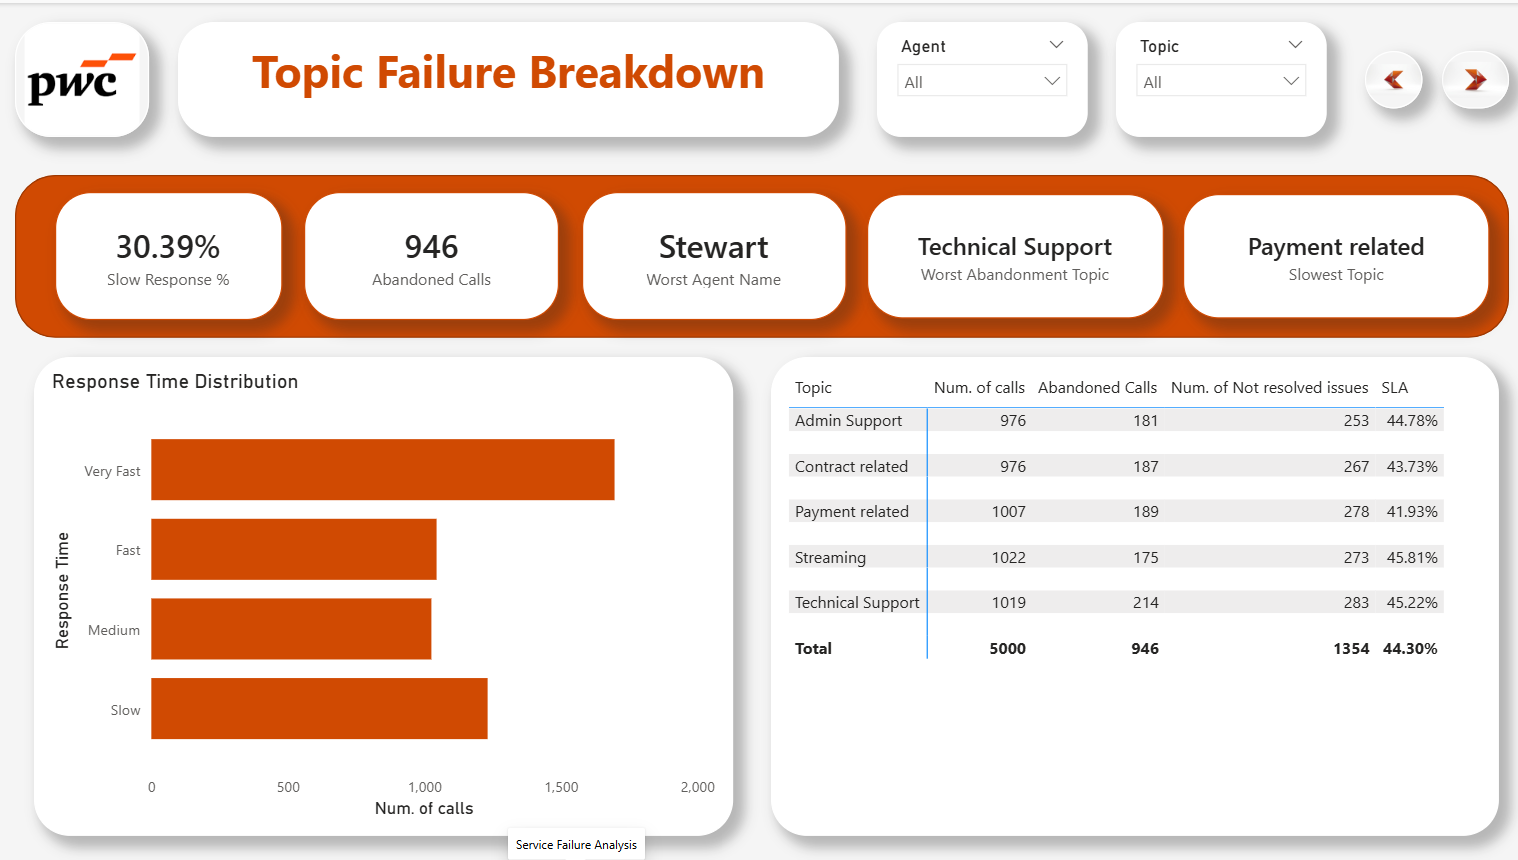

The page's visual inventory and layout, read from the dashboard file:
{"tool":"powerbi","page":{"name":"Service Failure Analysis","canvas":[1280,720],"ordinal":3},"visuals":[{"type":"slicer","fields":{"Values":["Sheet1.Agent"]},"box":[744,16,176,96],"z":0},{"type":"shape","box":[24,144,1248,136],"z":0,"group":"g1"},{"type":"slicer","fields":{"Values":["Sheet1.Topic"]},"box":[944,16,176,96],"z":1000},{"type":"cardVisual","fields":{"Data":["_Measures.Abandoned Calls"]},"box":[265.8,158.3,213.3,107.4],"z":1000,"group":"g1"},{"type":"image","box":[24,16,112,96],"z":2000},{"type":"cardVisual","fields":{"Data":["_Measures.Worst Agent Name"]},"box":[497.6,158.3,220.8,107.4],"z":2000,"group":"g1"},{"type":"image","box":[1216,40,56,48],"z":3000},{"type":"cardVisual","fields":{"Data":["_Measures.Worst Abandonment Topic"]},"box":[736,160,248,104],"z":3000,"group":"g1"},{"type":"textbox","box":[160,16,552,96],"z":4000},{"type":"cardVisual","fields":{"Data":["_Measures.Slowest Topic"]},"box":[1000,160,256,104],"z":4000,"group":"g1"},{"type":"image","box":[1152,40,48,48],"z":5000},{"type":"cardVisual","fields":{"Data":["_Measures.Slow Response %"]},"box":[57.6,158.3,189.6,107.4],"z":5000,"group":"g1"},{"type":"group","id":"g1","title":"Group 1","box":[24,144,1248,136],"z":6000},{"type":"clusteredBarChart","title":"Response Time Distribution","fields":{"Y":["_Measures.Num. of calls"],"Category":["Sheet1.Response Time Sort"]},"box":[40,296,584,400],"z":7000},{"type":"pivotTable","title":"Agent Performance Matrix","fields":{"Rows":["Sheet1.Topic"],"Values":["_Measures.Num. of calls","_Measures.Abandoned Calls","_Measures.Num. of Not resolved issues","_Measures.SLA"]},"box":[656,296,608,400],"z":8000}]}

Visuals, with their boxes in screenshot pixels (x1, y1, x2, y2), scaled from the page's 1280x720 canvas onto the 1518x860 screenshot:
slicer - Sheet1.Agent: [882, 19, 1091, 134]
shape: [28, 172, 1509, 334]
slicer - Sheet1.Topic: [1120, 19, 1328, 134]
cardVisual - _Measures.Abandoned Calls: [315, 189, 568, 317]
image: [28, 19, 161, 134]
cardVisual - _Measures.Worst Agent Name: [590, 189, 852, 317]
image: [1442, 48, 1509, 105]
cardVisual - _Measures.Worst Abandonment Topic: [873, 191, 1167, 315]
textbox: [190, 19, 844, 134]
cardVisual - _Measures.Slowest Topic: [1186, 191, 1490, 315]
image: [1366, 48, 1423, 105]
cardVisual - _Measures.Slow Response %: [68, 189, 293, 317]
"Group 1" group: [28, 172, 1509, 334]
"Response Time Distribution" clusteredBarChart: [47, 354, 740, 831]
"Agent Performance Matrix" pivotTable: [778, 354, 1499, 831]
